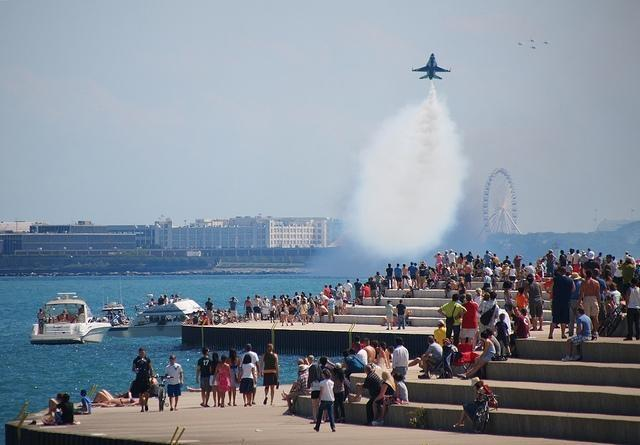bicycle: (473, 392, 500, 432), (158, 377, 172, 412)
